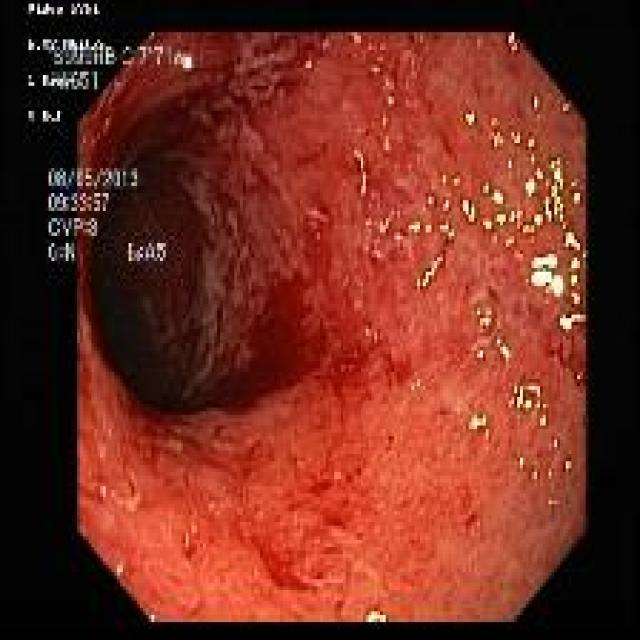ulcerative-colitis: (81, 34, 585, 611)
